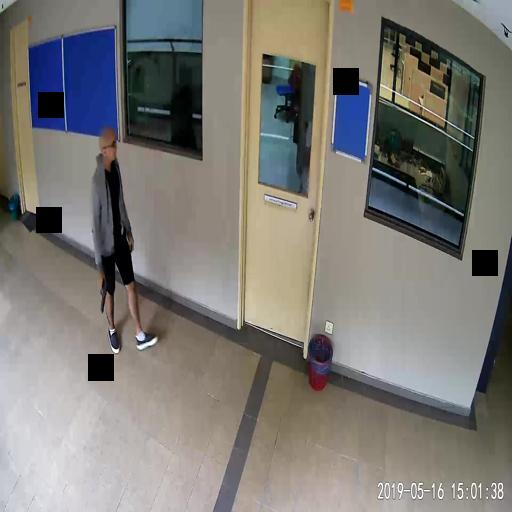Handgun: (97, 276, 105, 312)
